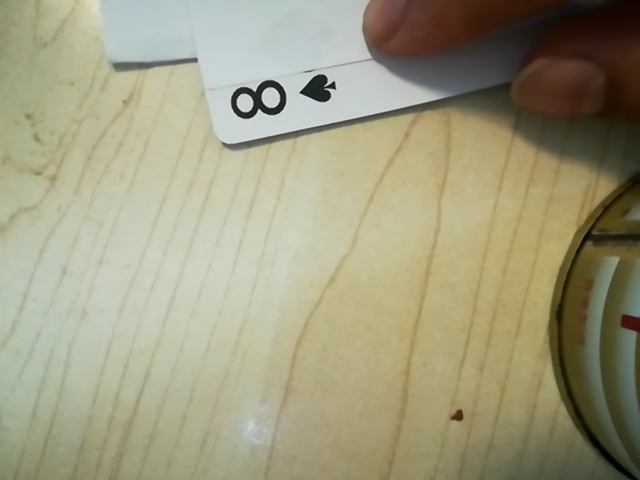ht 8: (213, 59, 363, 139)
